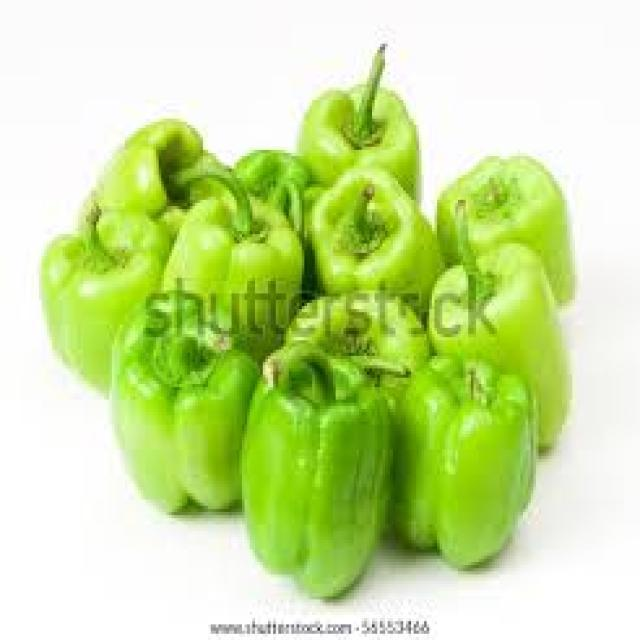bell_pepper: (247, 338, 397, 608), (396, 350, 550, 578)
